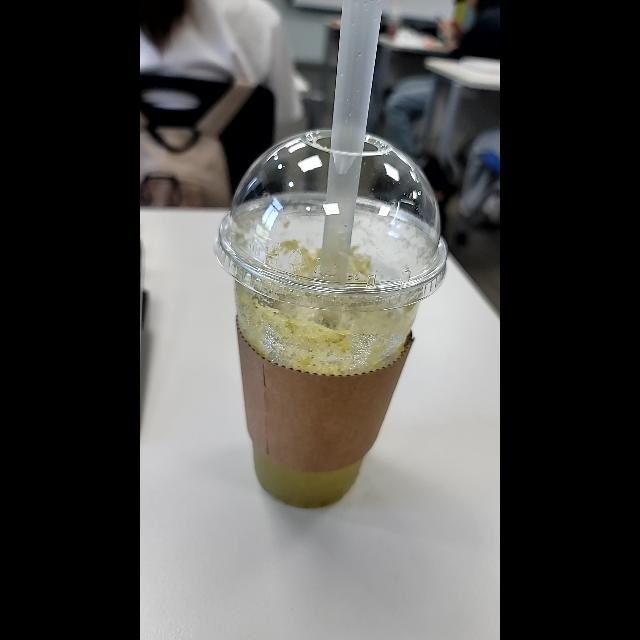plastic_cup: (222, 118, 448, 538)
plastic_cup_lid: (215, 125, 448, 308)
straw: (320, 9, 386, 319)
